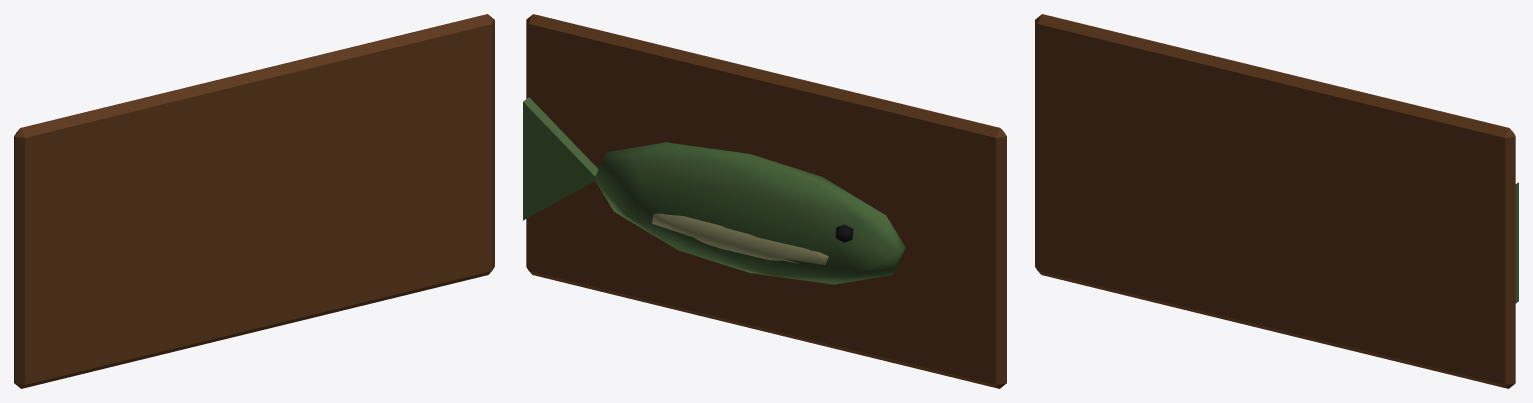
Rendered from bass_plaque_v0.glb.
The picture shows the model from 3 angles, left to right: view 1: azimuth 30°, elevation 25°; view 2: azimuth 150°, elevation 25°; view 3: azimuth 330°, elevation 25°; orthographic projection.
Visible parts, largest first — view 1: bass_plaque_v0; view 2: bass_plaque_v0; view 3: bass_plaque_v0.
Boxes of the visible parts, x1,y1,x2,y2 form: bass_plaque_v0: (14,14,494,388); bass_plaque_v0: (523,14,1006,388); bass_plaque_v0: (1035,14,1518,388).
Bounding box in the file's own units: 1.35 × 0.7 × 0.1813.
